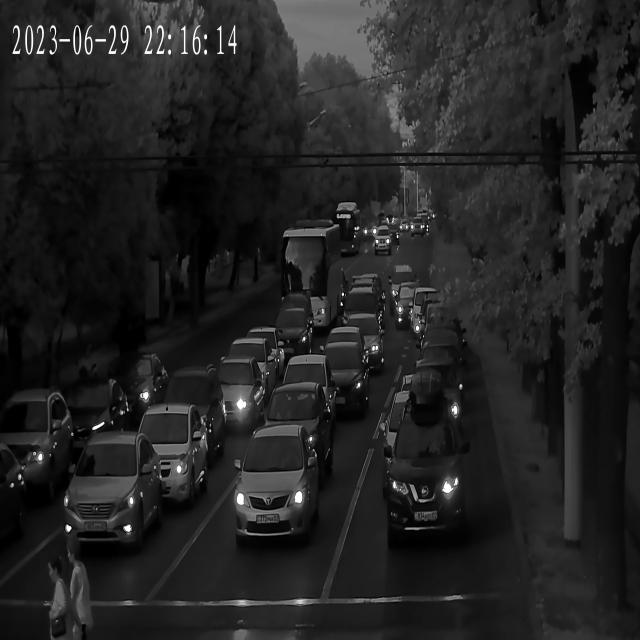Bus: (282, 220, 344, 334), (332, 202, 363, 254)
Car: (386, 386, 464, 543), (65, 433, 160, 547), (236, 428, 320, 548), (2, 387, 74, 506), (134, 408, 208, 514), (265, 388, 331, 482), (162, 366, 227, 458), (404, 359, 466, 453), (105, 348, 167, 432), (284, 353, 335, 430), (318, 340, 368, 418), (414, 322, 466, 396), (212, 363, 266, 430), (323, 320, 369, 388), (228, 336, 275, 398), (341, 309, 383, 372), (347, 280, 384, 347), (243, 325, 284, 380), (274, 295, 312, 354), (410, 288, 445, 344), (395, 286, 432, 336), (390, 261, 414, 311), (375, 227, 394, 254), (411, 218, 425, 242), (385, 226, 402, 245), (364, 220, 376, 246), (366, 221, 378, 242)
